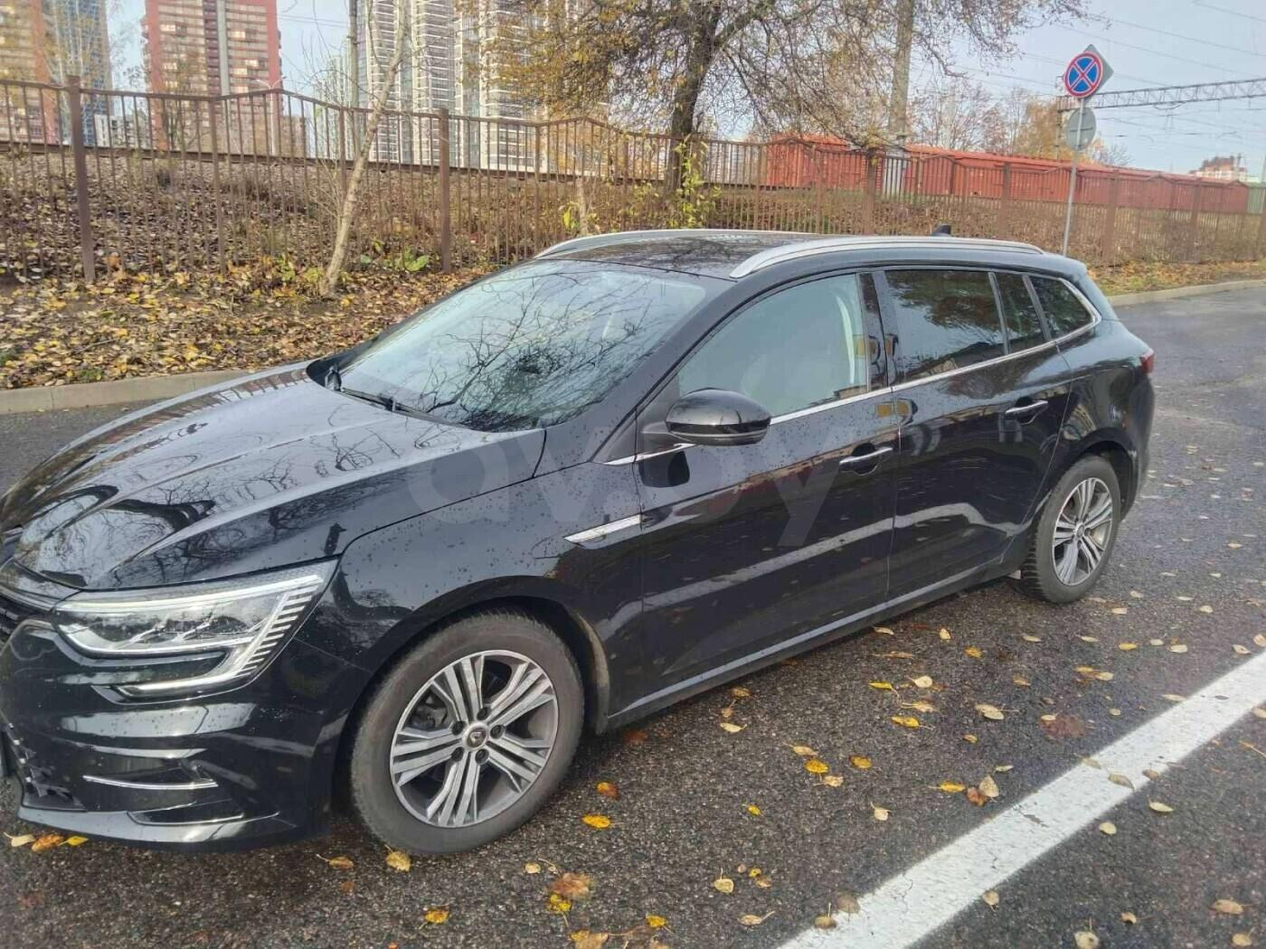Megane_2020: (4, 223, 1164, 886)
